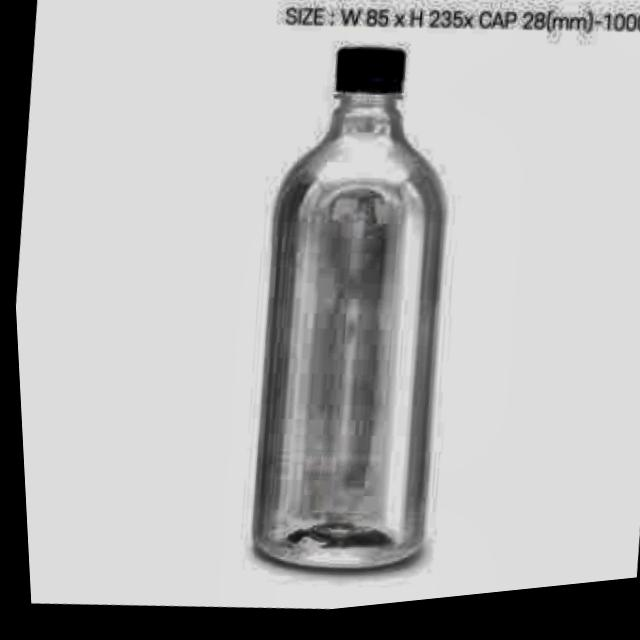Bottles: (186, 18, 523, 625)
